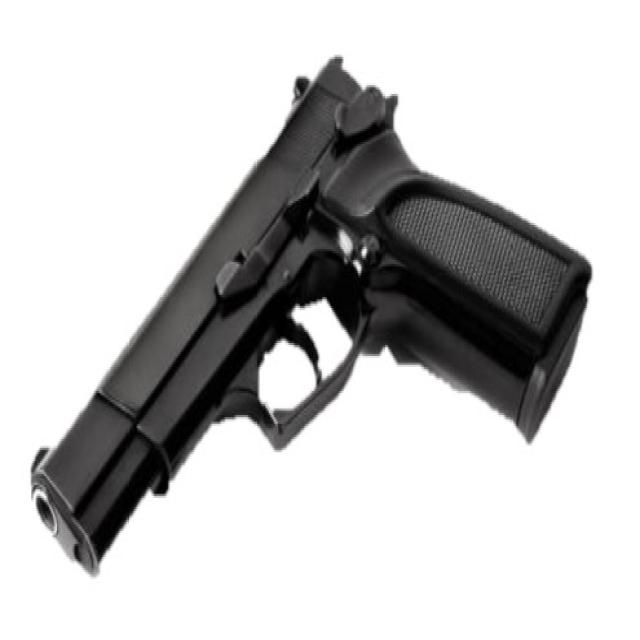pistol: (30, 36, 601, 584)
